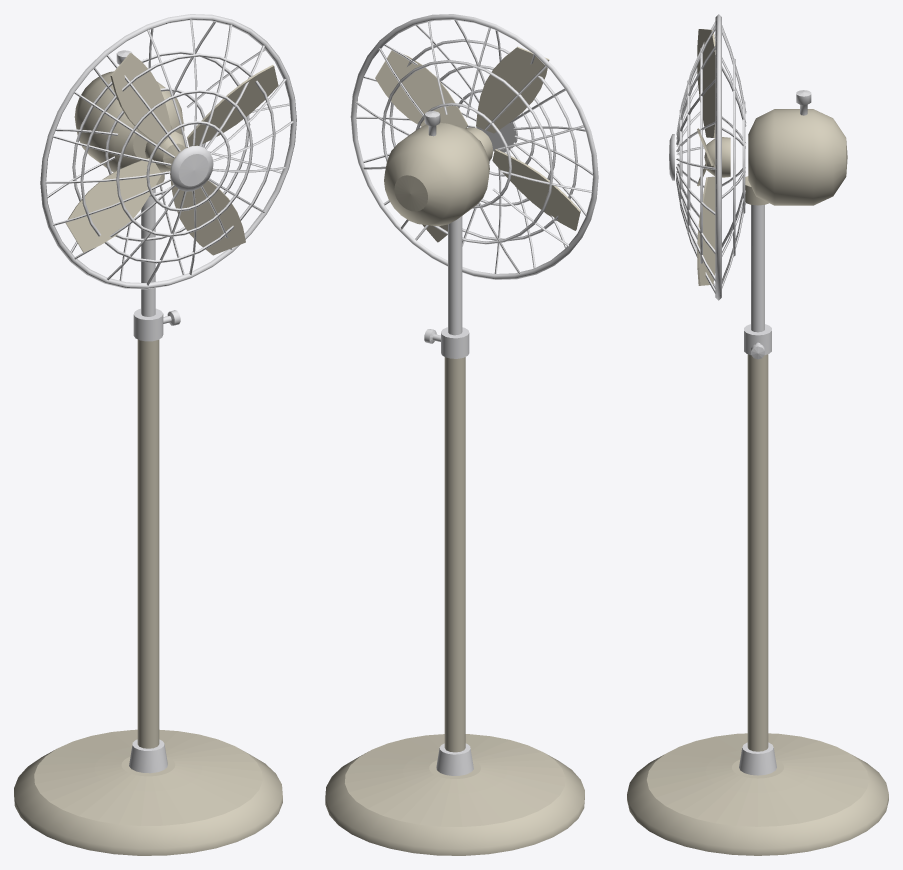
The model's file is pedestal-fan.glb.
3 renders of one model, left to right at view 1: azimuth 30°, elevation 25°; view 2: azimuth 150°, elevation 25°; view 3: azimuth 270°, elevation 25°, orthographic. The views are drawn at different scales.
Visible parts, largest first — view 1: pedestalfan_N30, fan_head, fan_blades; view 2: pedestalfan_N30, fan_head, fan_blades; view 3: pedestalfan_N30, fan_head, fan_blades.
Part boxes in pixels (x1=…): pedestalfan_N30: x1=14, y1=188, x2=282, y2=855; fan_head: x1=40, y1=14, x2=296, y2=289; fan_blades: x1=65, y1=53, x2=278, y2=255; pedestalfan_N30: x1=325, y1=216, x2=584, y2=855; fan_head: x1=350, y1=14, x2=598, y2=279; fan_blades: x1=375, y1=46, x2=580, y2=242; pedestalfan_N30: x1=627, y1=205, x2=888, y2=855; fan_head: x1=669, y1=14, x2=847, y2=300; fan_blades: x1=697, y1=29, x2=730, y2=285.
Size of the model in its own units: 0.44 by 1.3 by 0.4.
